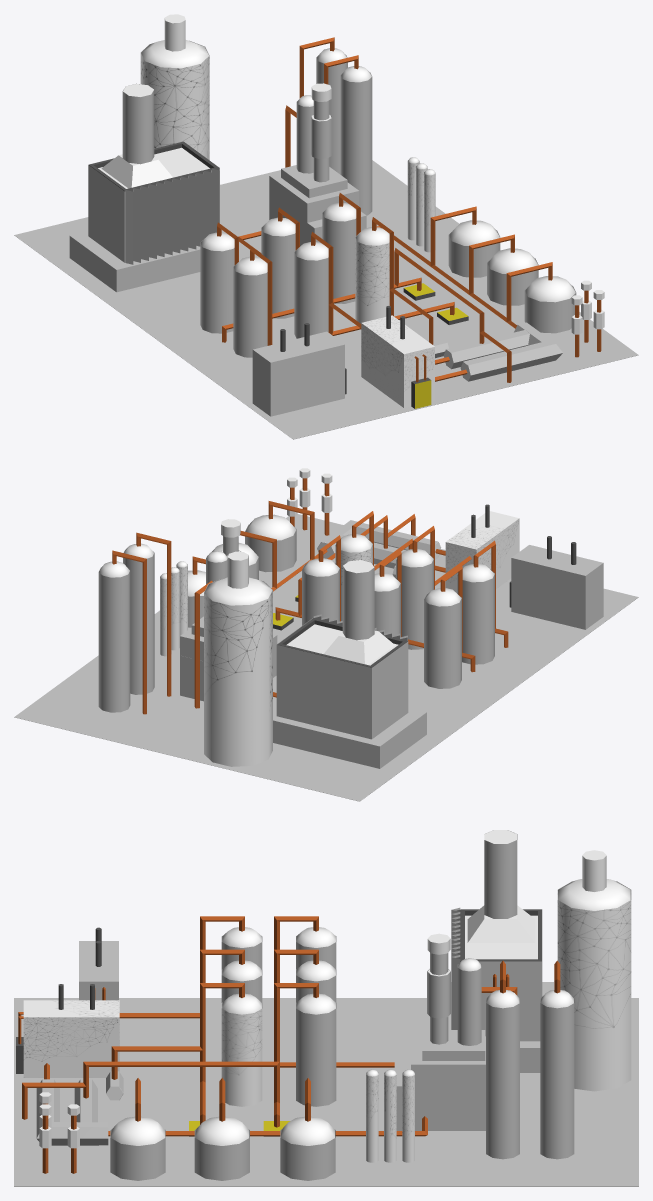
The model's file is Mobile_Level3.FBX.
The picture shows the model from 3 angles, top to bottom: view 1: azimuth 30°, elevation 25°; view 2: azimuth 150°, elevation 25°; view 3: azimuth 270°, elevation 25°; orthographic projection. The views are drawn at different scales.
Visible parts, largest first — view 1: NetworkLandscape3, MobileLevel3; view 2: NetworkLandscape3, MobileLevel3; view 3: NetworkLandscape3, MobileLevel3.
Part boxes in pixels (x1,y1,x2,y2): NetworkLandscape3: [14, 40, 638, 439]; MobileLevel3: [14, 14, 636, 439]; NetworkLandscape3: [14, 511, 638, 801]; MobileLevel3: [14, 468, 635, 801]; NetworkLandscape3: [14, 830, 638, 1186]; MobileLevel3: [14, 830, 638, 1186].
Bounding box in the file's own units: 11425 × 6223 × 15984.
